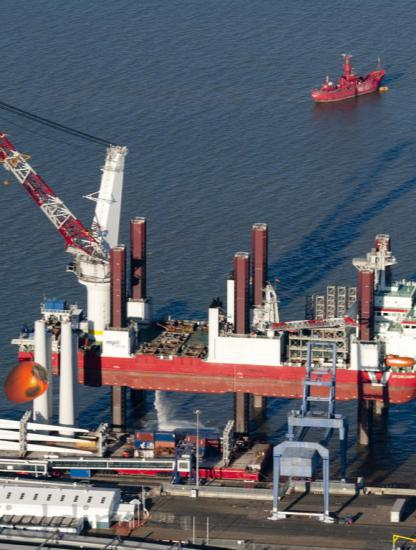Kaki: (0, 355, 53, 408)
